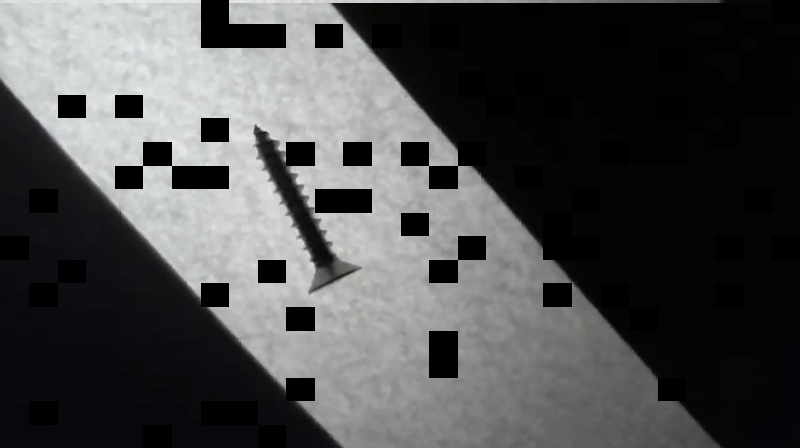S001: (248, 122, 365, 296)
